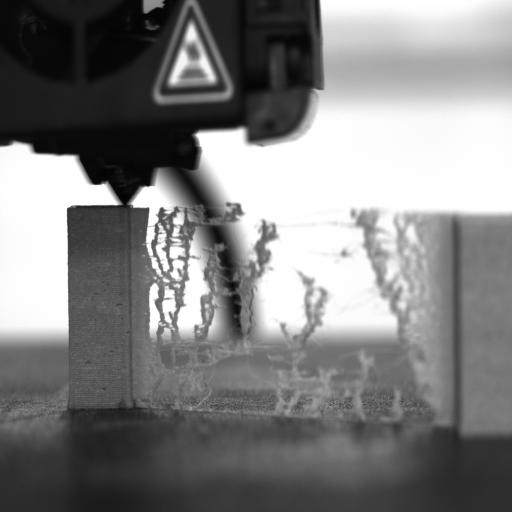spaghetti_and_stringing: (148, 202, 436, 420)
